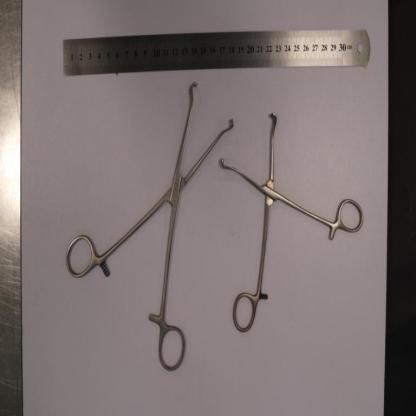8 Babcock Tissue Forceps: (66, 82, 233, 370)
Babcock Tissue Forceps: (220, 109, 364, 332)
